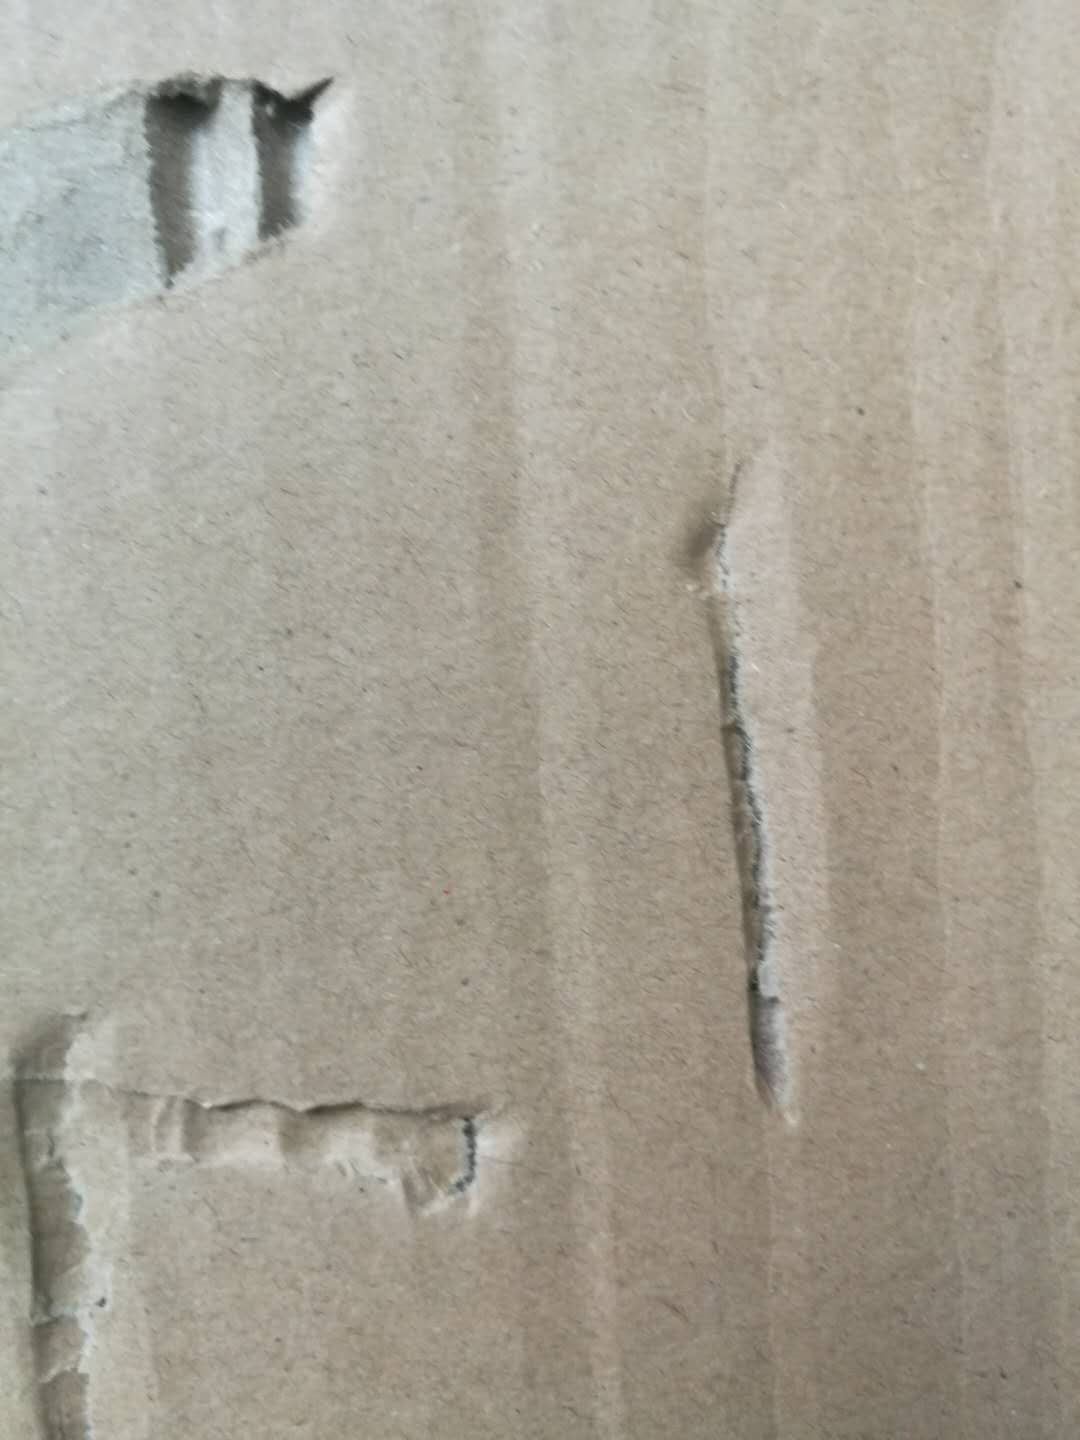defect: (455, 2, 655, 1440), (1, 981, 517, 1440), (655, 444, 869, 1179), (3, 45, 376, 404)
